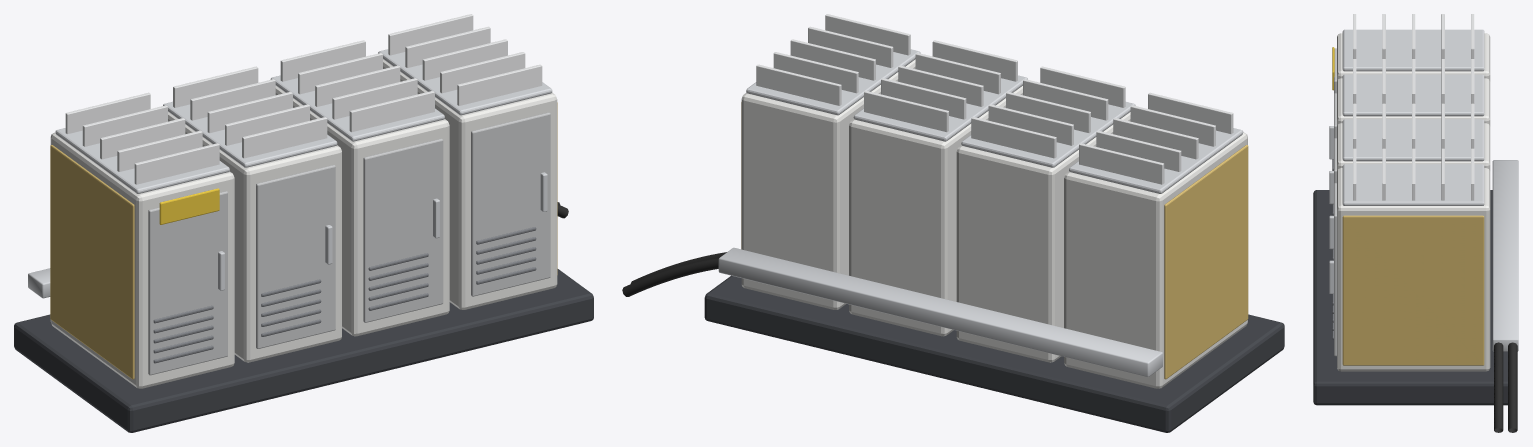
Rendered from battery_bank.glb.
3 views of the same model, side by side, from view 1: azimuth 30°, elevation 25°; view 2: azimuth 150°, elevation 25°; view 3: azimuth 270°, elevation 25° (orthographic). The views are drawn at different scales.
Parts seen in each view (by area): view 1: battery_bank; view 2: battery_bank; view 3: battery_bank.
Boxes of the visible parts, x1,y1,x2,y2 form: battery_bank: [14, 14, 593, 432]; battery_bank: [622, 14, 1284, 432]; battery_bank: [1313, 14, 1518, 432].
Size of the model in its own units: 4.57 by 1.97 by 1.74.
